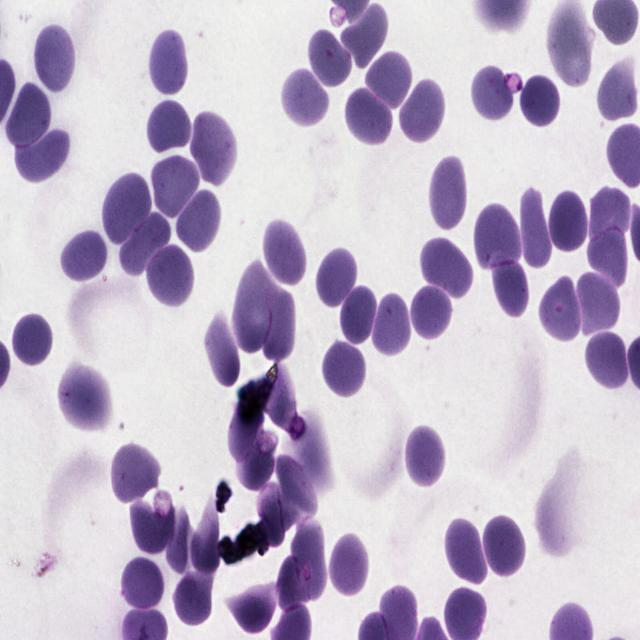red blood cell: (54, 358, 114, 436), (546, 4, 592, 91), (142, 238, 195, 310), (418, 234, 471, 303), (190, 112, 238, 188), (117, 210, 174, 272), (538, 274, 587, 346), (234, 260, 271, 354), (103, 173, 152, 242), (151, 153, 202, 219), (397, 78, 448, 144), (13, 124, 70, 183), (33, 20, 78, 93), (262, 216, 308, 287), (306, 28, 356, 93), (475, 203, 522, 272), (574, 269, 622, 336), (280, 64, 330, 128), (8, 80, 53, 150), (445, 516, 489, 585), (342, 89, 394, 147), (177, 184, 218, 256), (596, 56, 640, 123), (367, 49, 413, 112), (481, 516, 527, 579), (429, 155, 468, 229), (586, 327, 630, 392), (341, 3, 387, 65), (316, 245, 360, 309), (322, 338, 368, 399), (112, 446, 157, 508), (328, 533, 370, 599), (519, 186, 552, 269), (207, 313, 242, 391), (130, 496, 174, 558), (146, 33, 188, 97), (146, 99, 193, 155), (548, 184, 586, 253), (409, 283, 454, 341), (372, 290, 409, 360), (406, 428, 445, 494), (338, 285, 379, 347), (470, 68, 517, 122), (490, 256, 530, 318), (278, 456, 318, 518), (10, 312, 54, 368), (59, 228, 108, 278), (586, 227, 628, 285), (230, 583, 276, 635), (264, 286, 296, 360), (292, 518, 327, 584), (172, 570, 213, 626), (590, 187, 630, 243), (238, 430, 274, 492), (520, 74, 560, 128), (121, 562, 164, 610), (276, 556, 311, 610), (166, 502, 190, 576), (191, 512, 218, 574)
